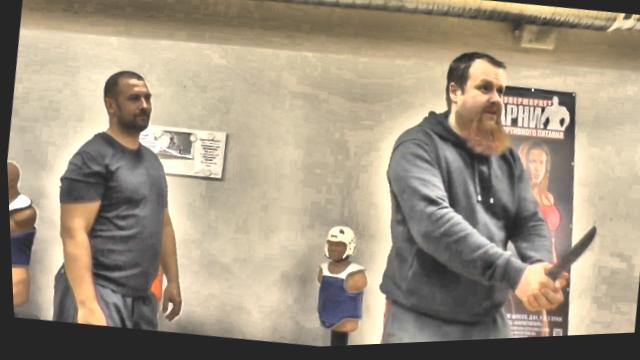knife: (514, 216, 600, 322)
